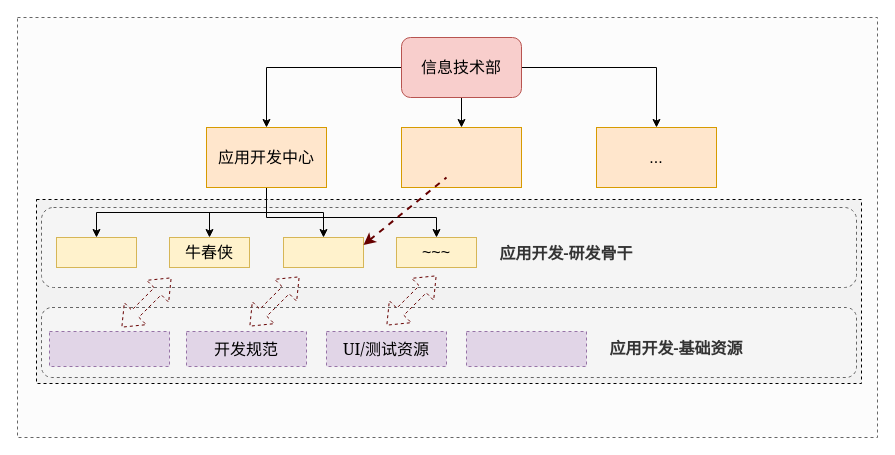
This 895x455 diagram has some shape labels left out. The shapes that lost their labels are listed below. From the top down, each one's centre as x and y in pixels, then its label:
At [461,157]: "投研业务线".
At [96,252]: "张颖伟".
At [323,252]: "谢东征".
At [109,348]: "开发框架".
At [526,348]: "技术交流".
